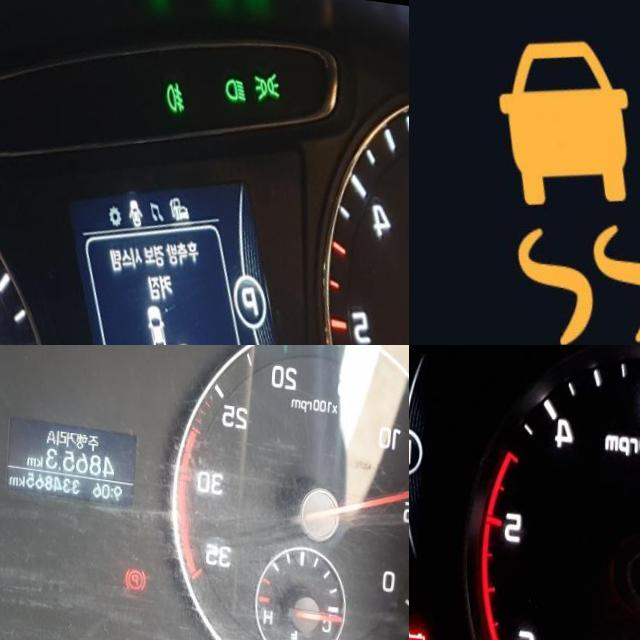FrontFogLight: (164, 68, 190, 106)
Low beam: (225, 63, 251, 94)
SideLamp: (254, 56, 285, 91)
